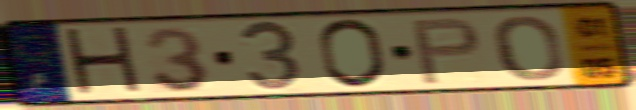3: (237, 17, 307, 96), (140, 24, 213, 95)
H: (59, 24, 149, 100)
O: (315, 17, 391, 91), (490, 13, 567, 84)
P: (408, 15, 485, 87)
